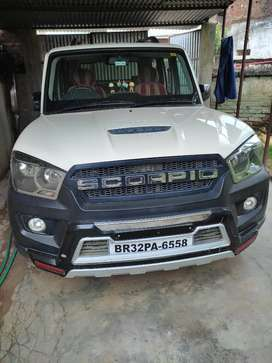BR32PA6558: (112, 235, 192, 255)
